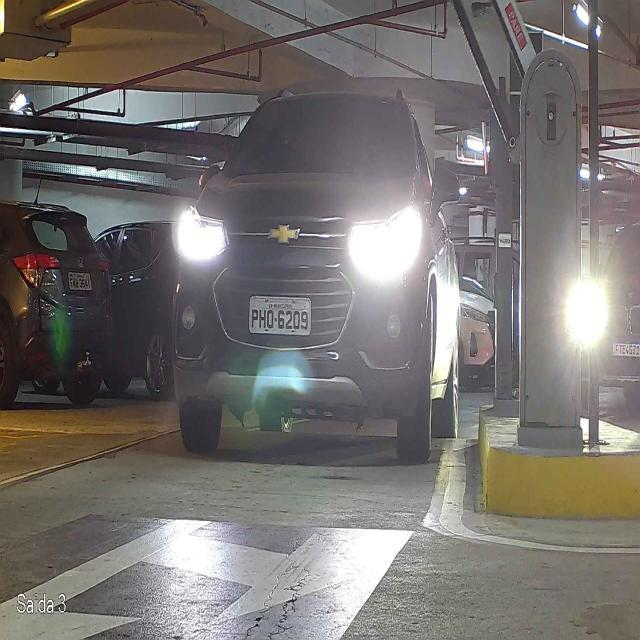old_plate: (248, 295, 314, 337)
